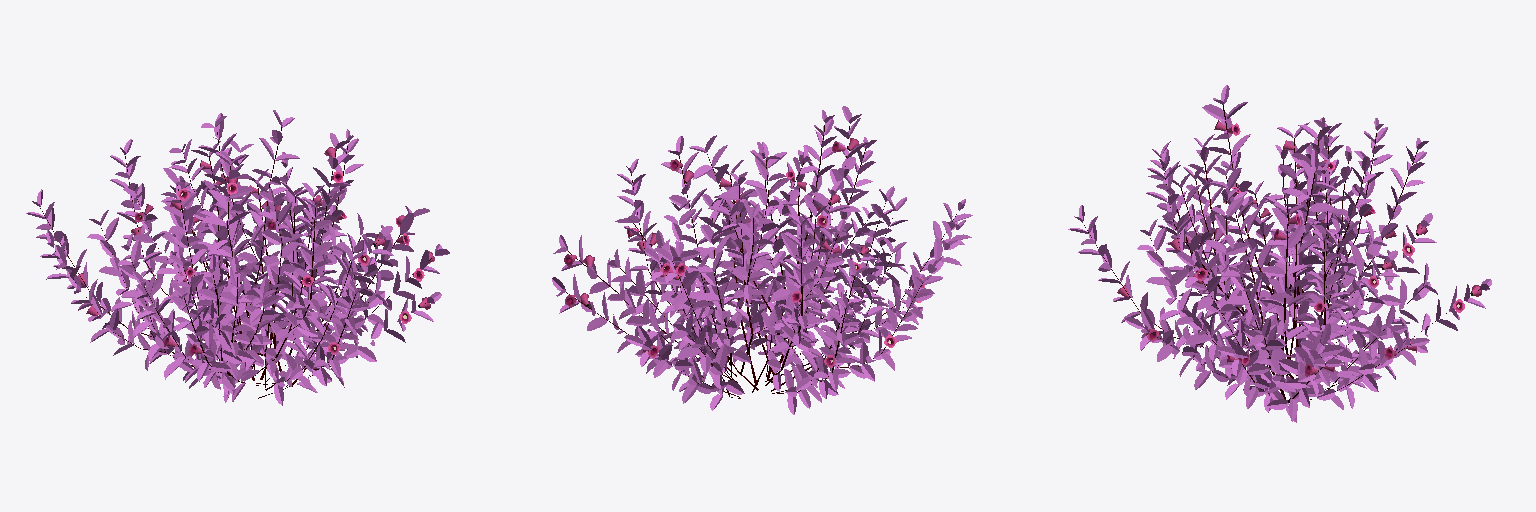
The model's file is Alexandra.obj.
3 renders of one model, left to right at view 1: azimuth 30°, elevation 25°; view 2: azimuth 150°, elevation 25°; view 3: azimuth 270°, elevation 25°, orthographic.
Size of the model in its own units: 81.82 by 56.51 by 78.53.